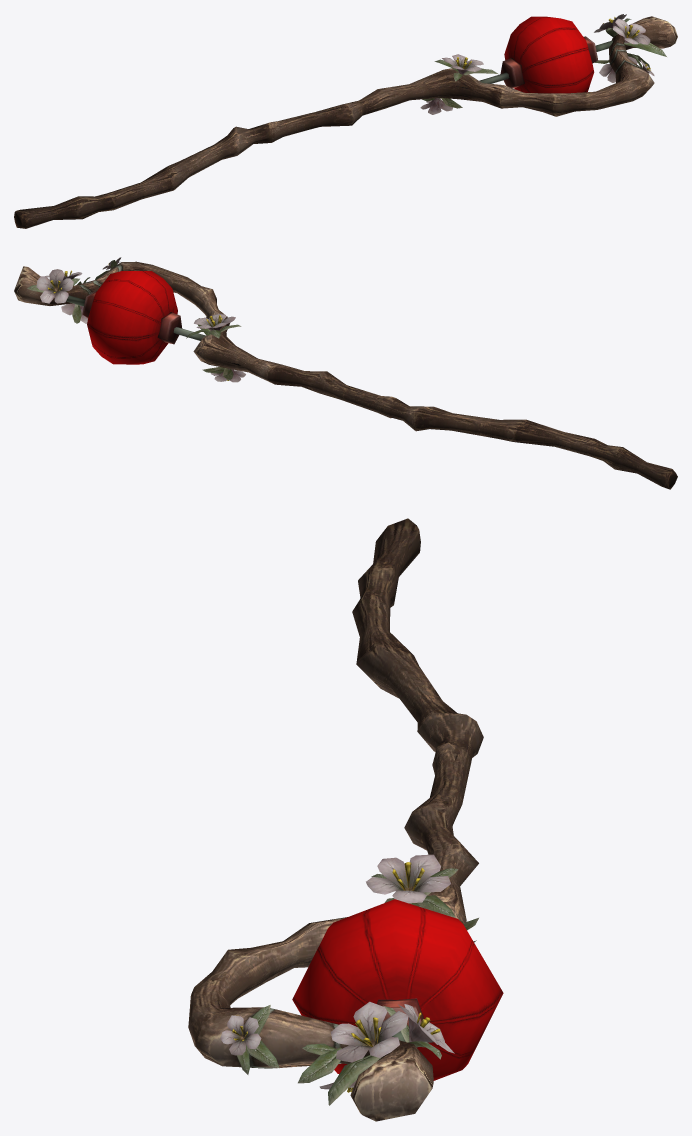
The model's file is weapon_pcm.glb.
3 renders of one model, top to bottom at view 1: azimuth 30°, elevation 25°; view 2: azimuth 150°, elevation 25°; view 3: azimuth 270°, elevation 25°, orthographic. The views are drawn at different scales.
Parts seen in each view (by area): view 1: Cos_Weapon_PCM_01_OutGame; view 2: Cos_Weapon_PCM_01_OutGame; view 3: Cos_Weapon_PCM_01_OutGame.
Part boxes in pixels (left/top/right/bottom): Cos_Weapon_PCM_01_OutGame: left=14, top=14, right=677, bottom=228; Cos_Weapon_PCM_01_OutGame: left=14, top=257, right=677, bottom=489; Cos_Weapon_PCM_01_OutGame: left=188, top=518, right=503, bottom=1121.
Size of the model in its own units: 1.73 by 0.2327 by 0.365.
1 material, 1 textured.
